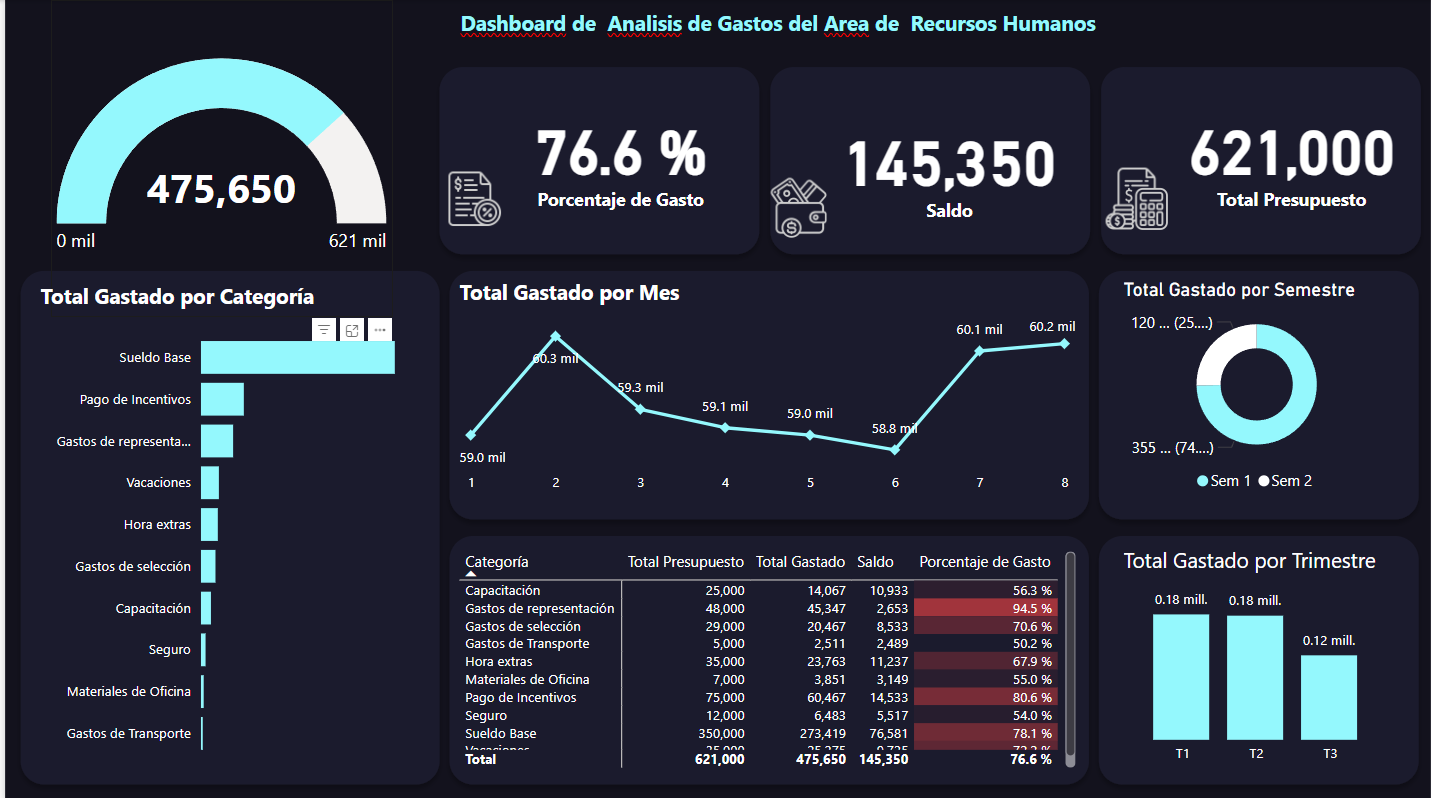

The dashboard page shown, as its layout file describes it:
{"tool":"powerbi","page":{"name":"Panel","canvas":[1280,720],"ordinal":1},"visuals":[{"type":"gauge","fields":{"Y":["Gastos1.Total Gastado"],"MaxValue":["Presupuesto2.Total Presupuesto"]},"box":[41.7,0,306.5,284.4],"z":0},{"type":"card","fields":{"Values":["Gastos1.Porcentaje de Gasto"]},"box":[421.8,70.6,261.8,139.2],"z":1000},{"type":"image","box":[388.6,145.5,66.5,66.5],"z":2000},{"type":"card","fields":{"Values":["Gastos1.Saldo"]},"box":[729.6,70.7,236.6,159.4],"z":3000},{"type":"image","box":[679.5,153.8,66.5,66.5],"z":4000},{"type":"card","fields":{"Values":["Presupuesto2.Total Presupuesto"]},"box":[1030.6,70.6,249.4,139.2],"z":5000},{"type":"image","box":[982.9,145.5,66.5,66.5],"z":6000},{"type":"clusteredBarChart","fields":{"Category":["Presupuesto2.Categoría"],"Y":["Gastos1.Total Gastado"]},"box":[27,253.5,344.9,440.5],"z":7000},{"type":"lineChart","title":"Total Gastado por Mes","fields":{"Category":["Calendario.Mes Num"],"Y":["Gastos1.Total Gastado"]},"box":[403.1,249.4,563.1,201.6],"z":8000},{"type":"pivotTable","fields":{"Rows":["Presupuesto2.Categoría"],"Values":["Presupuesto2.Total Presupuesto","Gastos1.Total Gastado","Gastos1.Saldo","Gastos1.Porcentaje de Gasto"]},"box":[403.1,490.4,563.1,203.6],"z":8001},{"type":"donutChart","fields":{"Category":["Calendario.Semestre"],"Y":["Gastos1.Total Gastado"]},"box":[999.5,249.4,249.4,201.6],"z":8002},{"type":"clusteredColumnChart","fields":{"Y":["Gastos1.Total Gastado"],"Category":["Calendario.Trimestre"]},"box":[999,490,249,204],"z":8003},{"type":"textbox","box":[388.7,2.7,610.5,47.6],"z":8004}]}

Visuals, with their boxes in screenshot pixels (x1, y1, x2, y2), scaled from the page's 1280x720 canvas onto the 1431x798 screenshot:
gauge - Gastos1.Total Gastado x Presupuesto2.Total Presupuesto: bbox=(47, 0, 389, 315)
card - Gastos1.Porcentaje de Gasto: bbox=(472, 78, 764, 233)
image: bbox=(434, 161, 509, 235)
card - Gastos1.Saldo: bbox=(816, 78, 1080, 255)
image: bbox=(760, 170, 834, 244)
card - Presupuesto2.Total Presupuesto: bbox=(1152, 78, 1430, 233)
image: bbox=(1099, 161, 1173, 235)
clusteredBarChart - Presupuesto2.Categoría x Gastos1.Total Gastado: bbox=(30, 281, 416, 769)
"Total Gastado por Mes" lineChart: bbox=(451, 276, 1080, 500)
pivotTable - Presupuesto2.Categoría x Presupuesto2.Total Presupuesto: bbox=(451, 544, 1080, 769)
donutChart - Calendario.Semestre x Gastos1.Total Gastado: bbox=(1117, 276, 1396, 500)
clusteredColumnChart - Gastos1.Total Gastado x Calendario.Trimestre: bbox=(1117, 543, 1395, 769)
textbox: bbox=(435, 3, 1117, 56)
